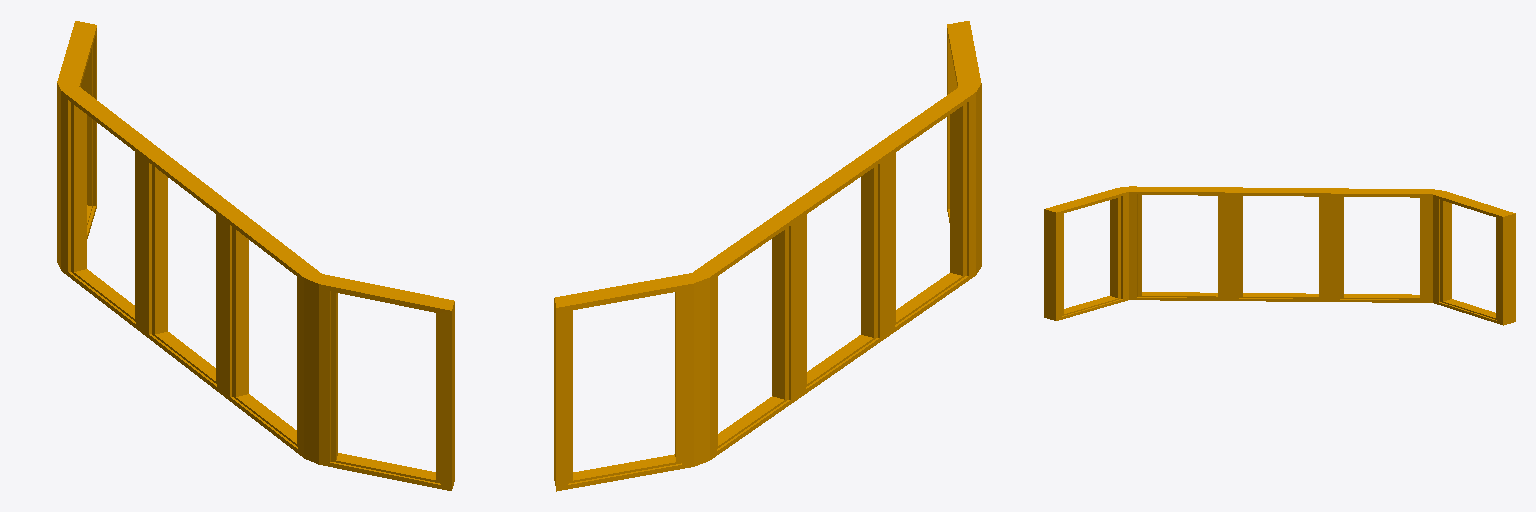
robot.urdf — window_3_object:
<robot name="window_3_object">
	<link name="_name">
		<visual>
			<origin xyz="3.8580254125655737 -0.2044679125532098 -0.2837805890930862" rpy="0.0 0.0 0.0" />
			<geometry>
				<mesh filename="window_3_object.obj" />
			</geometry>
		</visual>
		<collision>
			<origin rpy="0.0 0.0 0.0" xyz="3.8580254125655737 -0.2044679125532098 -0.2837805890930862" />
			<geometry>
				<mesh filename="window_3_object_vhacd.obj" />
			</geometry>
		</collision>
		<inertial>
			<origin rpy="0 0 0" xyz="0 0 0" />
			<mass value="1.0" />
			<inertia ixx="0.001" ixy="0.0" ixz="0.0" iyy="0.001" iyz="0.0" izz="0.001" />
		</inertial>
	</link>
</robot>

--- Render facts (derived) ---
3 views of the same robot in one strip: view 1: azimuth 30°, elevation 25°; view 2: azimuth 150°, elevation 25°; view 3: azimuth 270°, elevation 25° (orthographic).
Robot: window_3_object — 1 links, 0 joints (none); root link _name; default pose: all joints at 0.
Visible links, largest first — view 1: _name; view 2: _name; view 3: _name.
Boxes of the visible links, left/top/right/bottom form: _name: left=57, top=21, right=454, bottom=490; _name: left=554, top=21, right=981, bottom=491; _name: left=1044, top=186, right=1515, bottom=325.
Bounding box of the posed robot: 0.7745 × 5.05 × 1.28 m (x, y, z).
1 mesh visuals loaded from 1 distinct referenced files (1 OBJ).